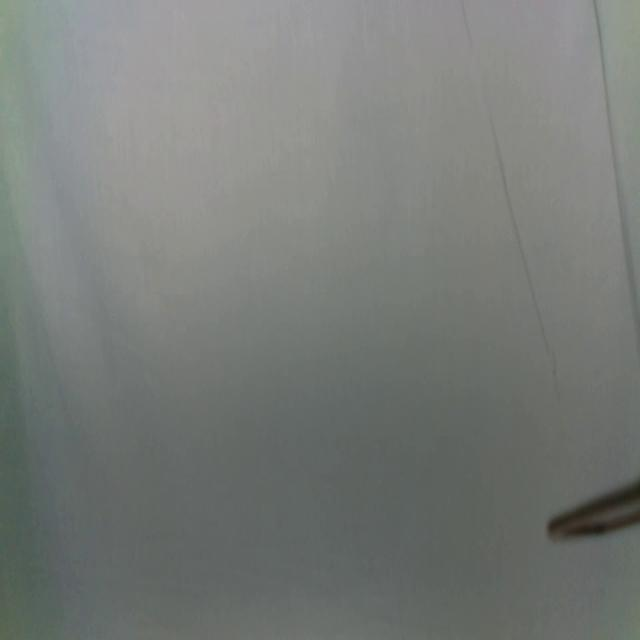crease: (461, 1, 557, 372), (594, 0, 638, 334)
